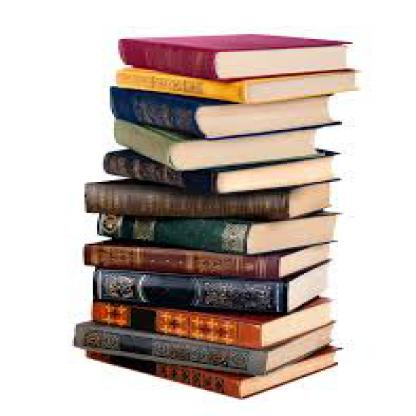paper: (84, 343, 338, 398), (72, 319, 331, 372), (89, 299, 340, 348), (106, 84, 342, 135), (110, 115, 327, 169), (104, 144, 342, 192), (95, 206, 340, 252), (89, 266, 329, 312), (82, 176, 332, 219), (118, 34, 353, 78), (114, 65, 359, 104), (82, 239, 336, 276)
